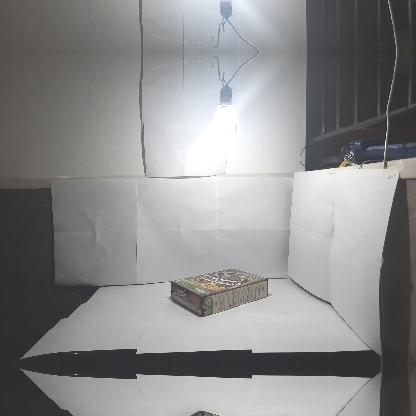Koko-Krunch: (170, 268, 268, 316)
